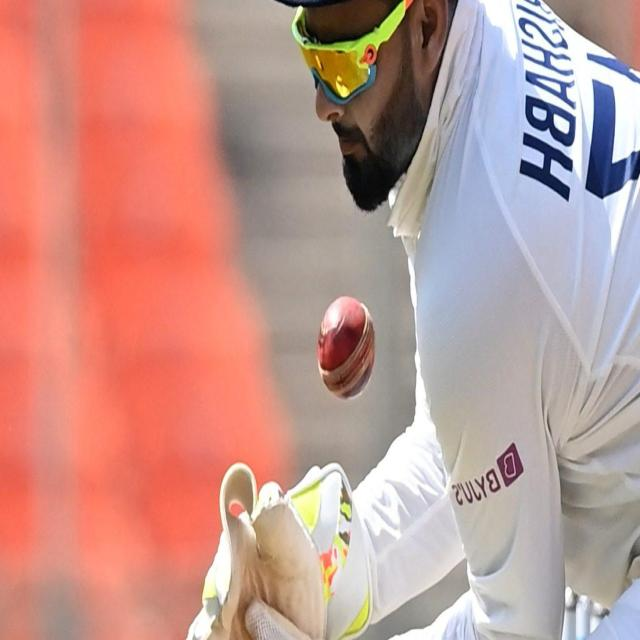ball: (317, 300, 373, 398)
